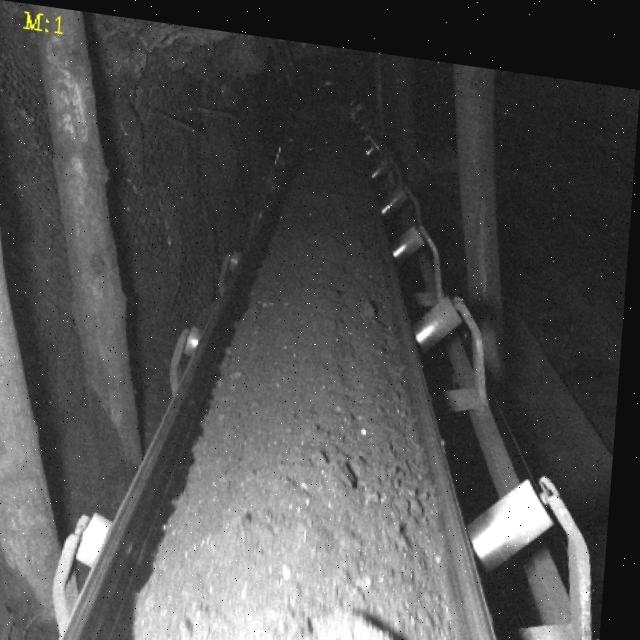large_sized_coal: (325, 598, 444, 640)
